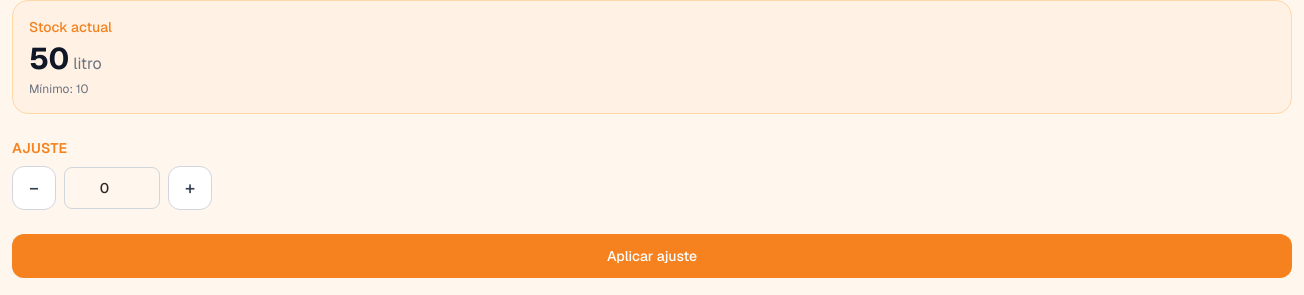
StockAdjustForm — button interaction › + button increments the delta input value
Expected: the number field labelled "Ajuste" holds "0", [64,167,160,209]
Click the button named "Aumentar stock" at (190, 188), box [168,166,212,210]
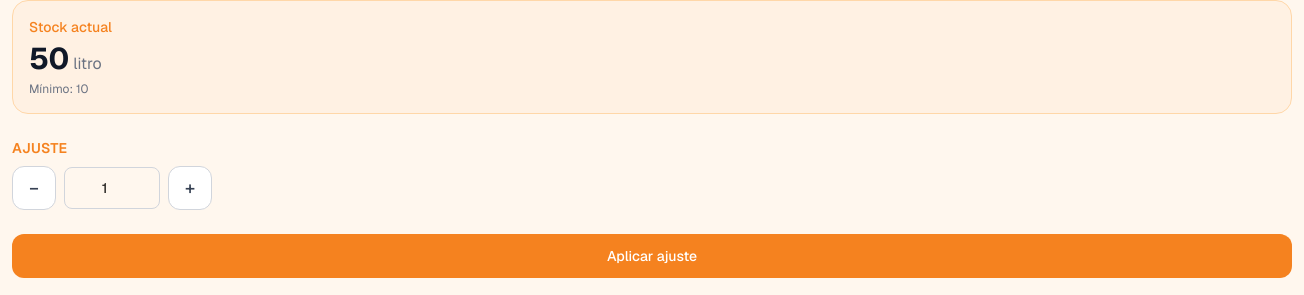
Now the number field labelled "Ajuste" holds "1", box [64,167,160,209]
